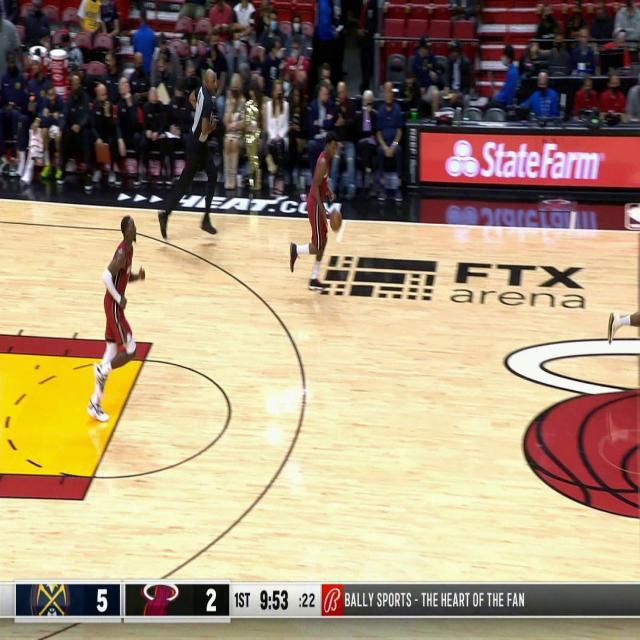rim: (332, 210, 342, 232)
